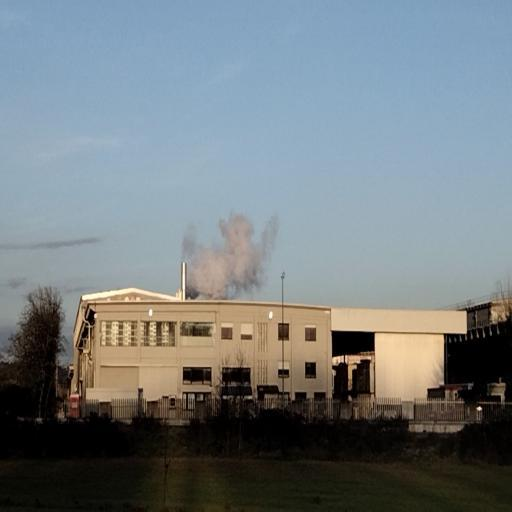leakage: (180, 200, 282, 304)
